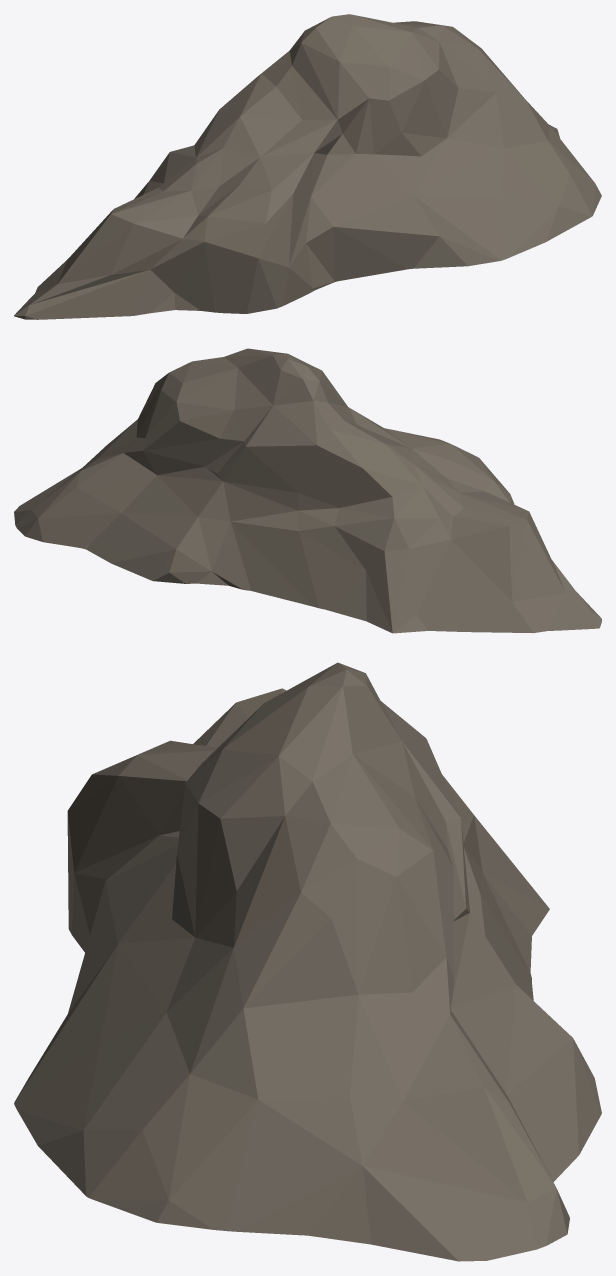
The model's file is Large_Mountain_Env_02.glb.
3 renders of one model, top to bottom at view 1: azimuth 30°, elevation 25°; view 2: azimuth 150°, elevation 25°; view 3: azimuth 270°, elevation 25°, orthographic. The views are drawn at different scales.
Parts seen in each view (by area): view 1: Large_Mountain_Env_02; view 2: Large_Mountain_Env_02; view 3: Large_Mountain_Env_02.
Boxes of the visible parts, x1,y1,x2,y2 form: Large_Mountain_Env_02: (14,14,601,319); Large_Mountain_Env_02: (14,348,601,633); Large_Mountain_Env_02: (14,662,601,1261).
Bounding box in the file's own units: 213 × 75.1 × 102.
Materials: 1 (1 with a texture image).
